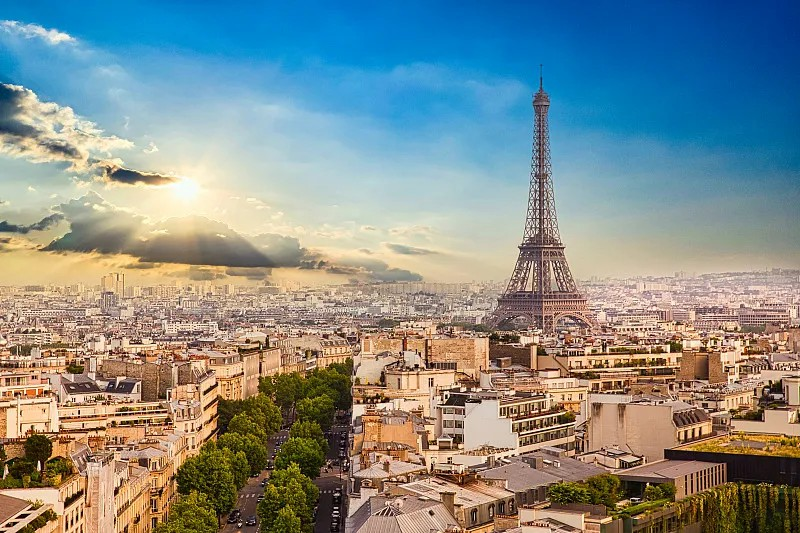Eiffel: (483, 64, 598, 337)
